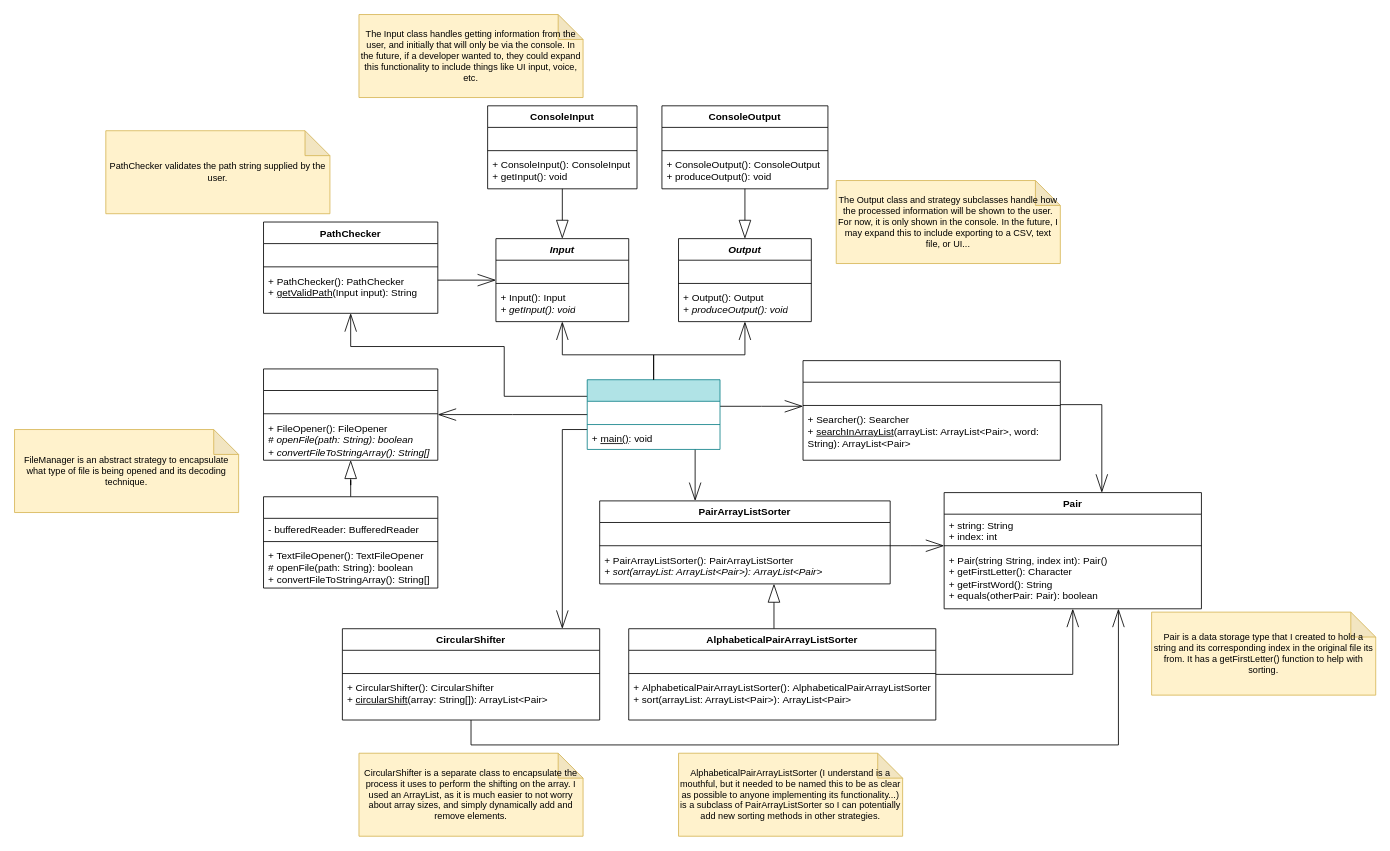
This 1390x851 diagram has some shape labels left out. The shapes that lost their labels are listed below. From the top down, each one's box as (x1, y1, x2, y2) in pixels, then its label:
(263, 368, 438, 460): FileManager
(586, 379, 720, 449): MainDriver
(802, 360, 1060, 460): KeywordSearcher
(263, 496, 438, 588): TextFileManager
